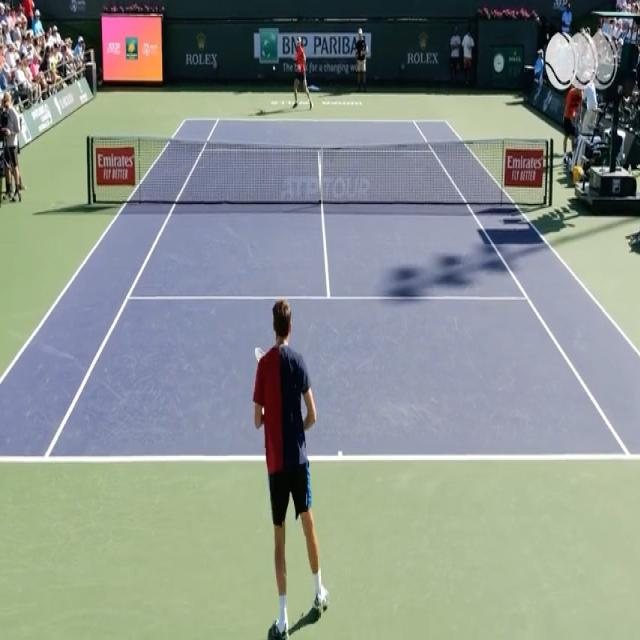ready-position: (253, 303, 330, 635)
